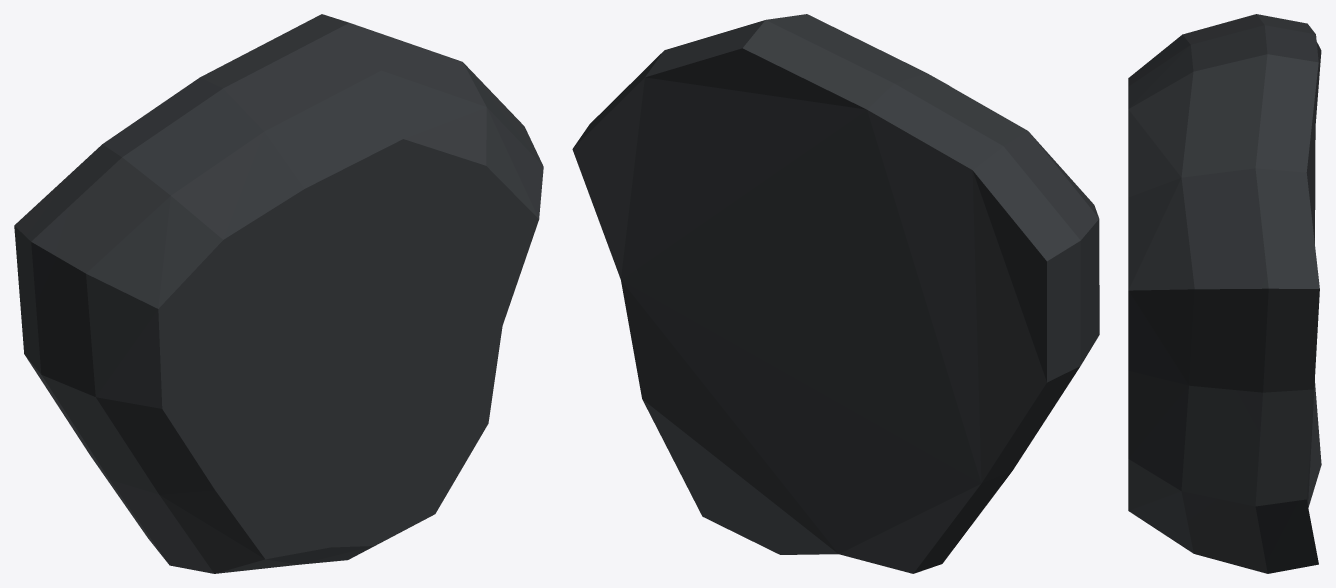
The model's file is FERNSTONE_TIDE.shadow.glb.
3 views of the same model, side by side, from view 1: azimuth 30°, elevation 25°; view 2: azimuth 150°, elevation 25°; view 3: azimuth 270°, elevation 25° (orthographic).
Visible parts, largest first — view 1: Body_Mesh; view 2: Body_Mesh; view 3: Body_Mesh.
Part boxes in pixels (x1,y1,x2,y2): Body_Mesh: (14,14,543,573); Body_Mesh: (572,14,1099,573); Body_Mesh: (1128,14,1321,573).
Bounding box in the file's own units: 0.3023 × 0.3033 × 0.1018.
1 material, 1 textured.
